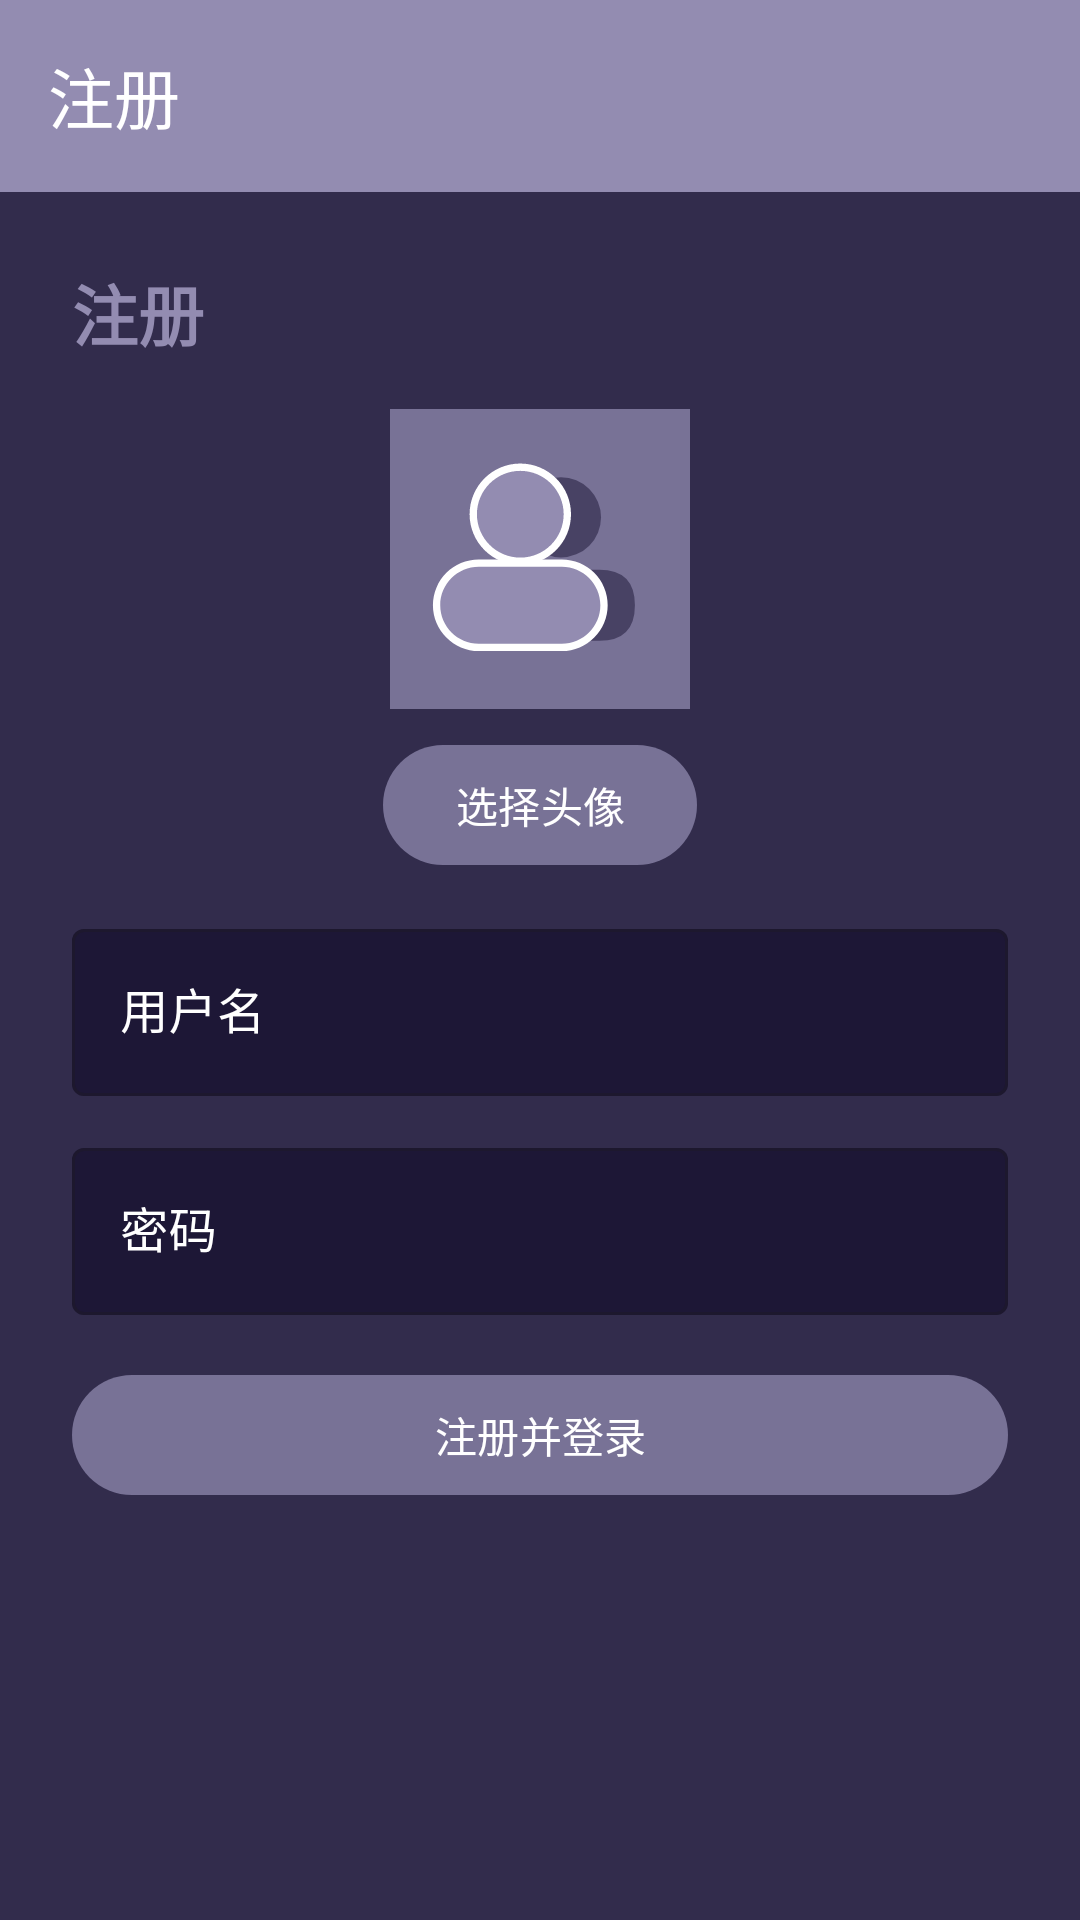

Locate icon controls on the screen. Image size 1080px x 1920px, boxes as (x1, y1, x2, y2).
profile: (390, 409, 690, 709)
